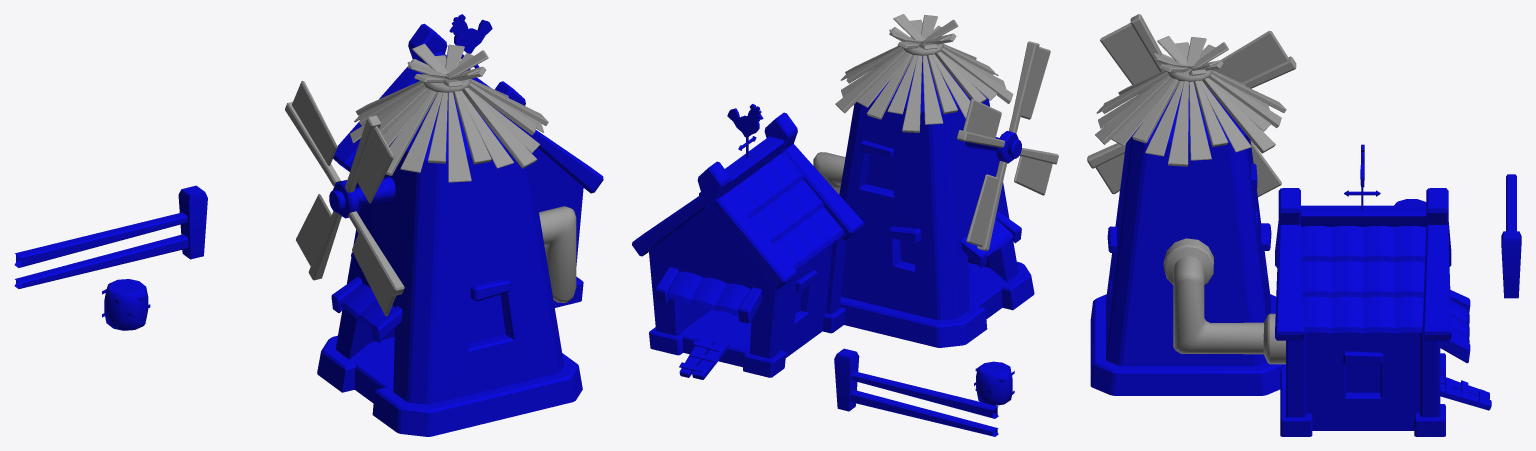
The model's file is Farm.FBX.
3 views of the same model, side by side, from view 1: azimuth 30°, elevation 25°; view 2: azimuth 150°, elevation 25°; view 3: azimuth 270°, elevation 25° (orthographic). The views are drawn at different scales.
Parts seen in each view (by area): view 1: Group002, Line001, Group001; view 2: Group002, Group001, Line001; view 3: Group002, Line001.
Boxes of the visible parts, x1,y1,x2,y2 form: Group002: [14, 14, 603, 436]; Line001: [539, 206, 576, 302]; Group001: [102, 279, 150, 330]; Group002: [632, 14, 1058, 436]; Group001: [974, 361, 1014, 405]; Line001: [813, 152, 845, 194]; Group002: [1087, 14, 1521, 436]; Line001: [1163, 238, 1285, 364].
Bounding box in the file's own units: 627 × 421 × 544.
